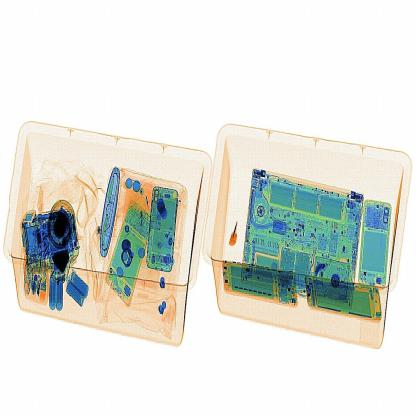wrench: (226, 215, 243, 248)
